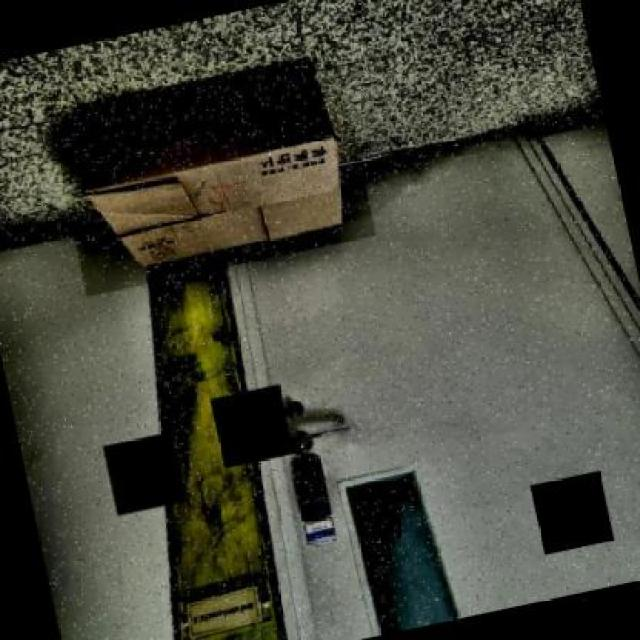box: (43, 32, 375, 297)
